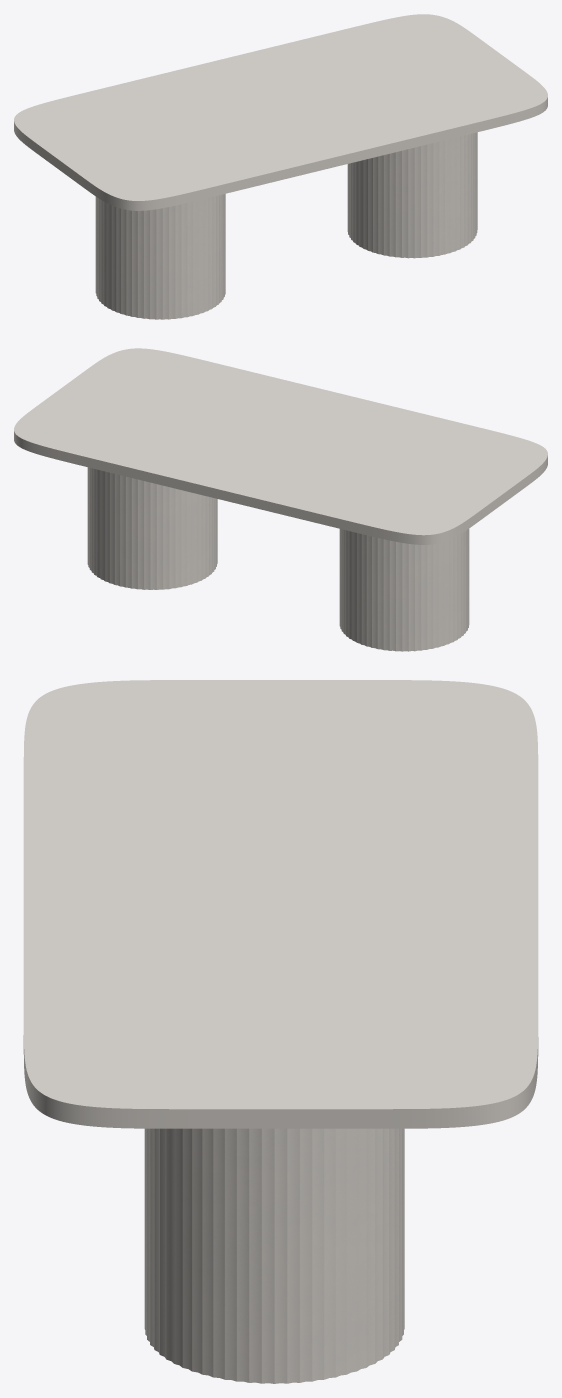
File: pearlwhite_softrecta_standard_ripplesecond.glb
3 views of the same model, one above another, from view 1: azimuth 30°, elevation 25°; view 2: azimuth 150°, elevation 25°; view 3: azimuth 270°, elevation 25° (orthographic). The views are drawn at different scales.
Parts seen in each view (by area): view 1: standard_softrecta, ripplesecond; view 2: standard_softrecta, ripplesecond; view 3: standard_softrecta, ripplesecond.
Boxes of the visible parts, bbox=[...] form: standard_softrecta: bbox=[14, 14, 547, 210]; ripplesecond: bbox=[95, 132, 477, 319]; standard_softrecta: bbox=[14, 348, 547, 544]; ripplesecond: bbox=[87, 467, 469, 651]; standard_softrecta: bbox=[23, 680, 538, 1128]; ripplesecond: bbox=[144, 1128, 404, 1383].
Bounding box in the file's own units: 7.5 × 2.51 × 3.8.
Materials: 1 (1 with a texture image).
